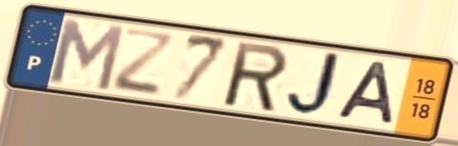7: (172, 30, 232, 106)
A: (333, 59, 396, 128)
J: (283, 50, 349, 119)
M: (47, 16, 128, 94)
R: (223, 39, 291, 115)
Z: (108, 25, 177, 99)
